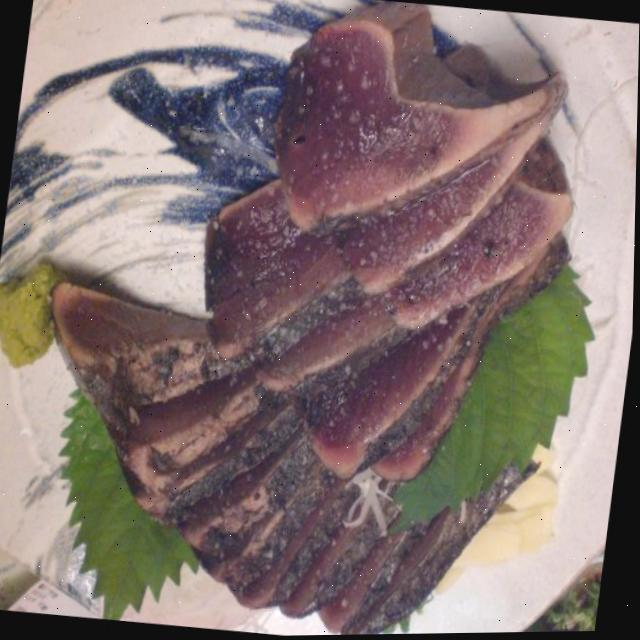熟制海鲜: (0, 21, 550, 640)
